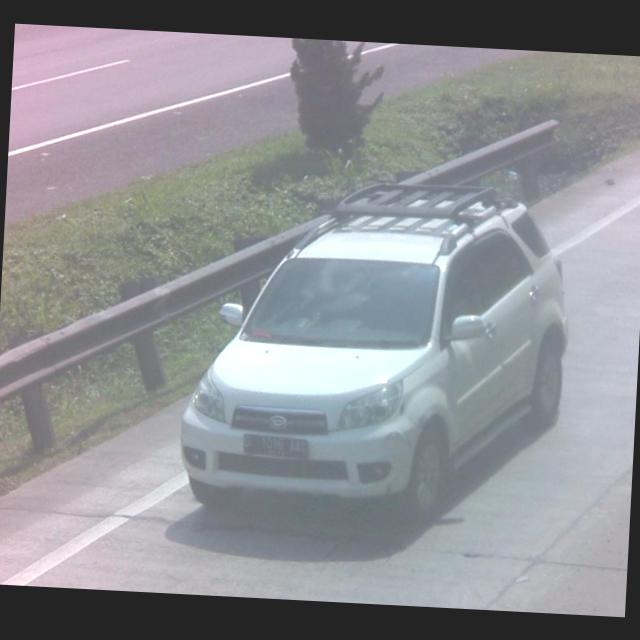plate: (238, 430, 312, 460)
